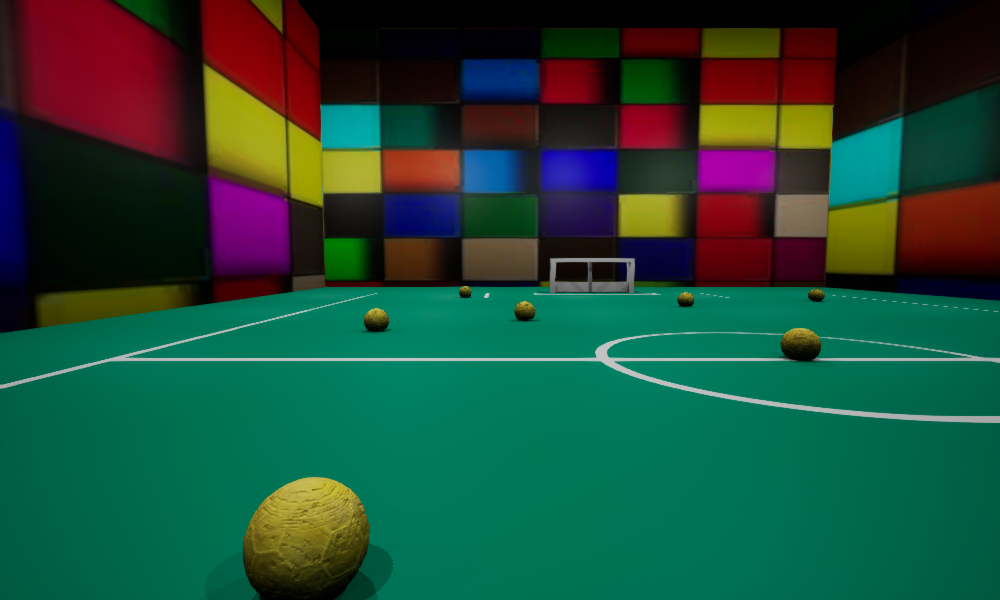b: (243, 477, 369, 599), (780, 328, 820, 360), (364, 308, 388, 330), (514, 301, 534, 320), (677, 292, 693, 306), (808, 289, 824, 300), (459, 286, 471, 296)
g: (550, 258, 634, 292)
